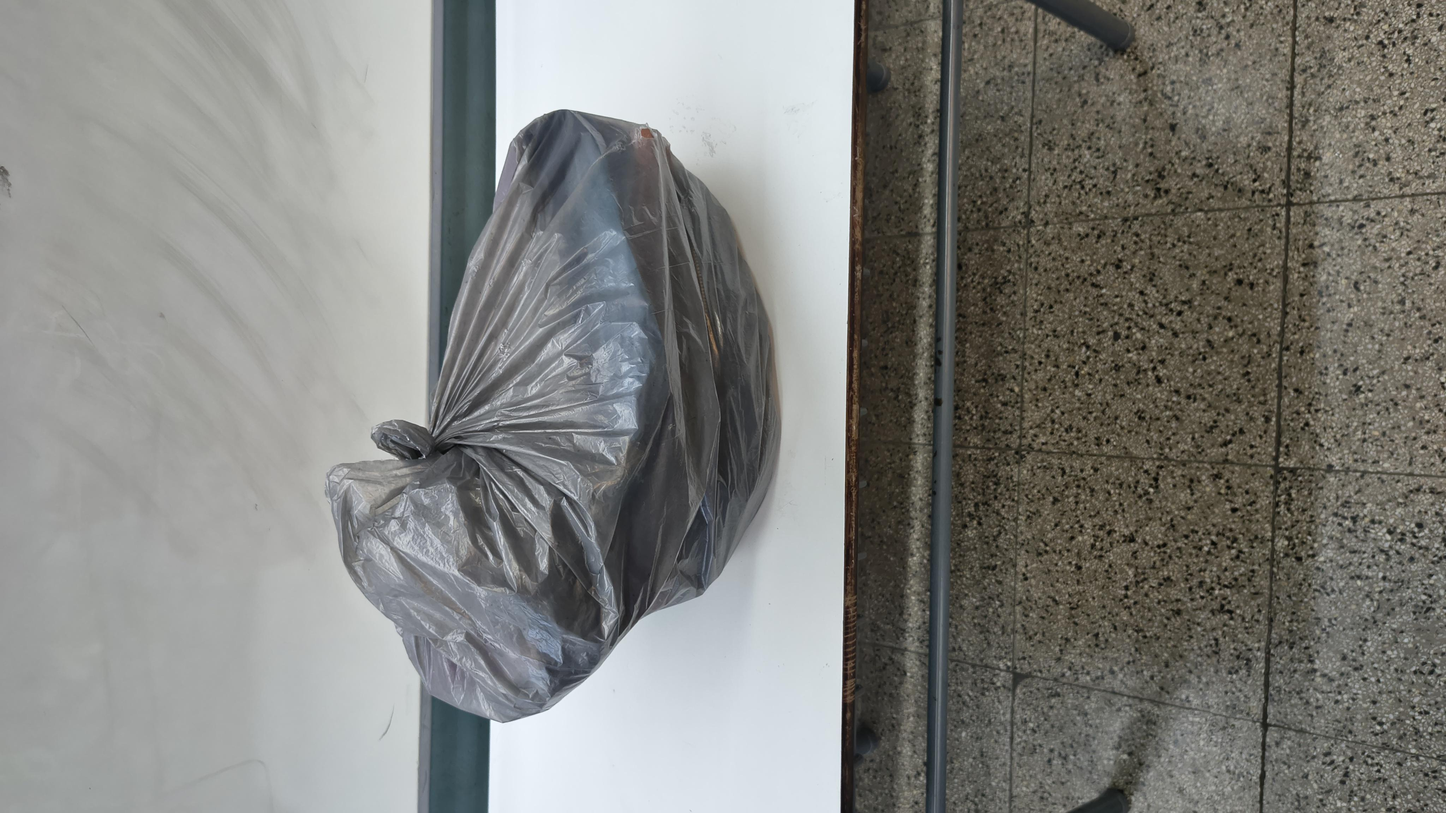Garbage: (44, 141, 1412, 472)
